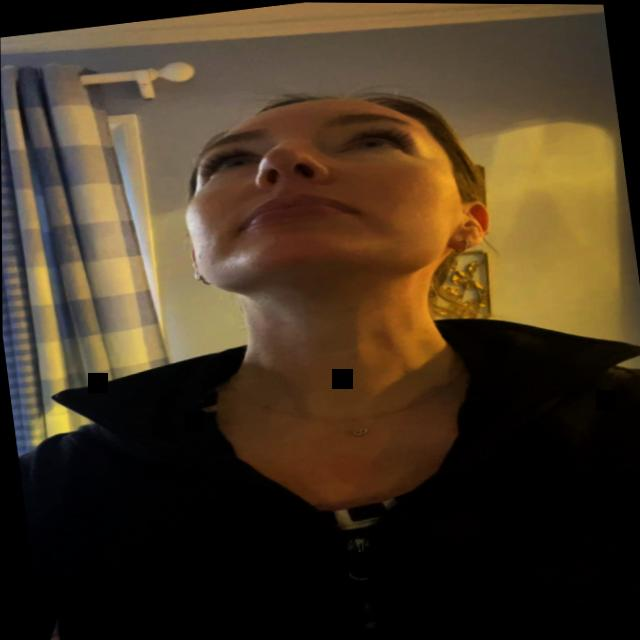NO-Mask: (167, 70, 498, 322)
